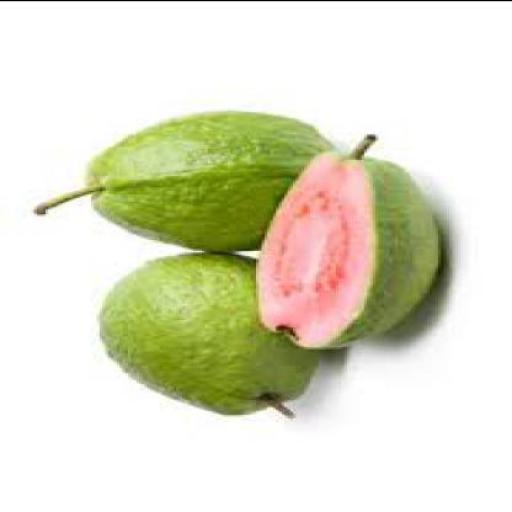biodegradable: (32, 106, 342, 251), (254, 131, 446, 348), (97, 250, 333, 417)
